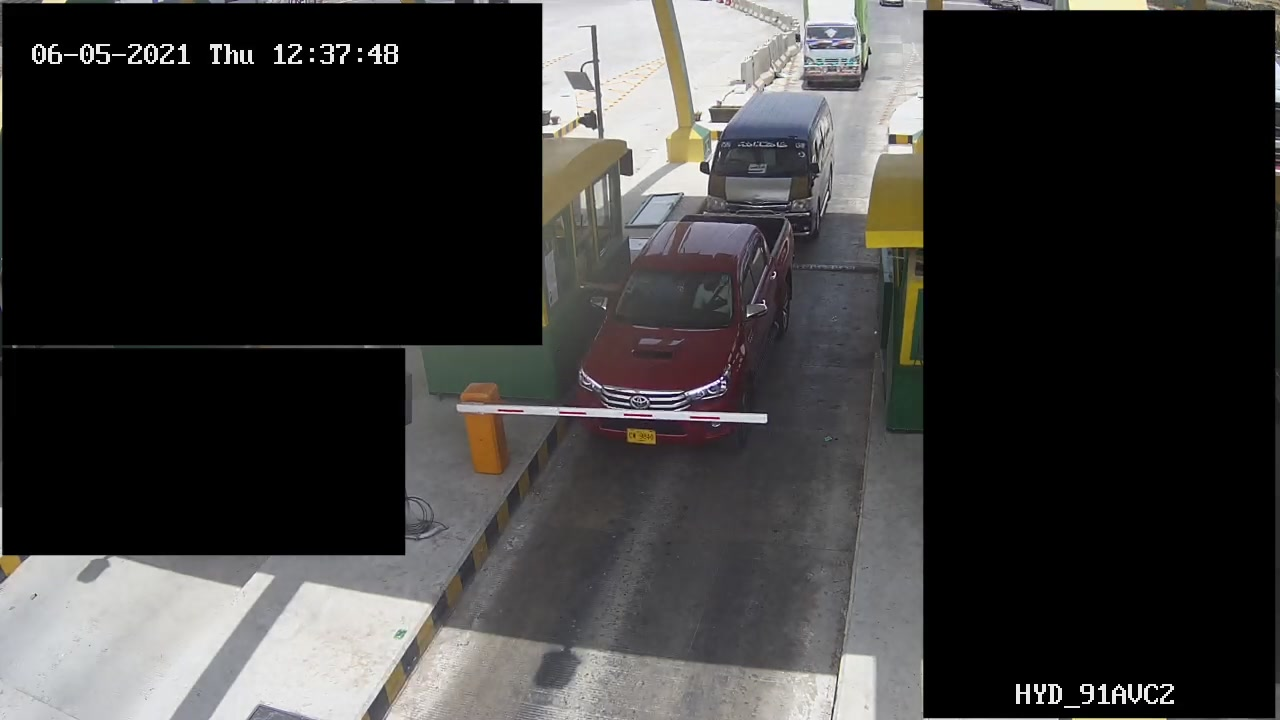F1: (582, 211, 798, 443)
F2: (706, 86, 834, 235)
